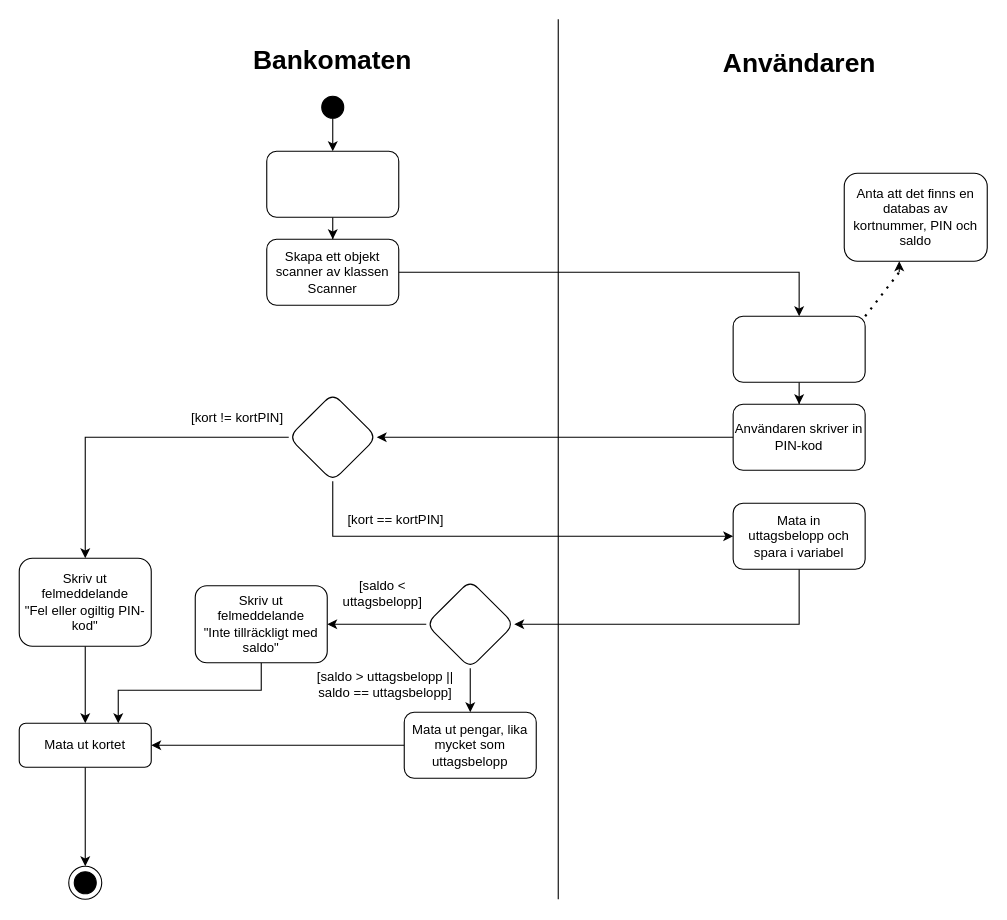
The diagram is 1007 pixels wide and 920 high, and some of its shapes have lost their labels. The shapes that lost their labels are listed below. From the top down, each one's box as (x1, y1, x2, y2) in pixels, then its label:
(266, 150, 399, 217): Deklarera kortPIN, uttagsbelopp
(732, 315, 865, 382): Användare matar in kort
(288, 392, 377, 481): Kontroll av PIN
(425, 579, 514, 668): Kontroll av saldo
